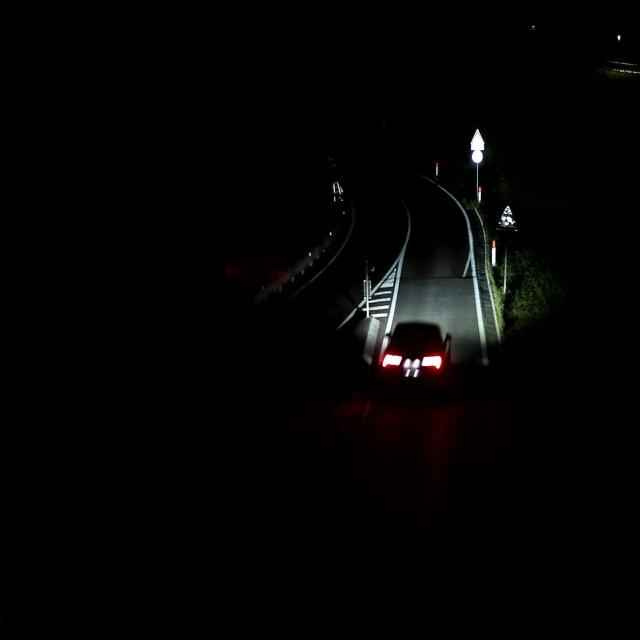car: (378, 320, 452, 382)
